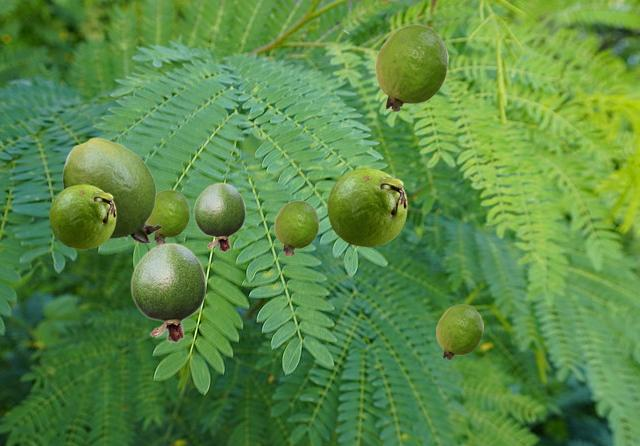guava: (62, 137, 161, 242), (130, 242, 206, 342), (375, 24, 447, 111), (327, 168, 406, 246), (49, 184, 115, 248), (193, 182, 245, 251), (436, 304, 482, 359), (274, 200, 318, 255), (147, 189, 189, 244)
